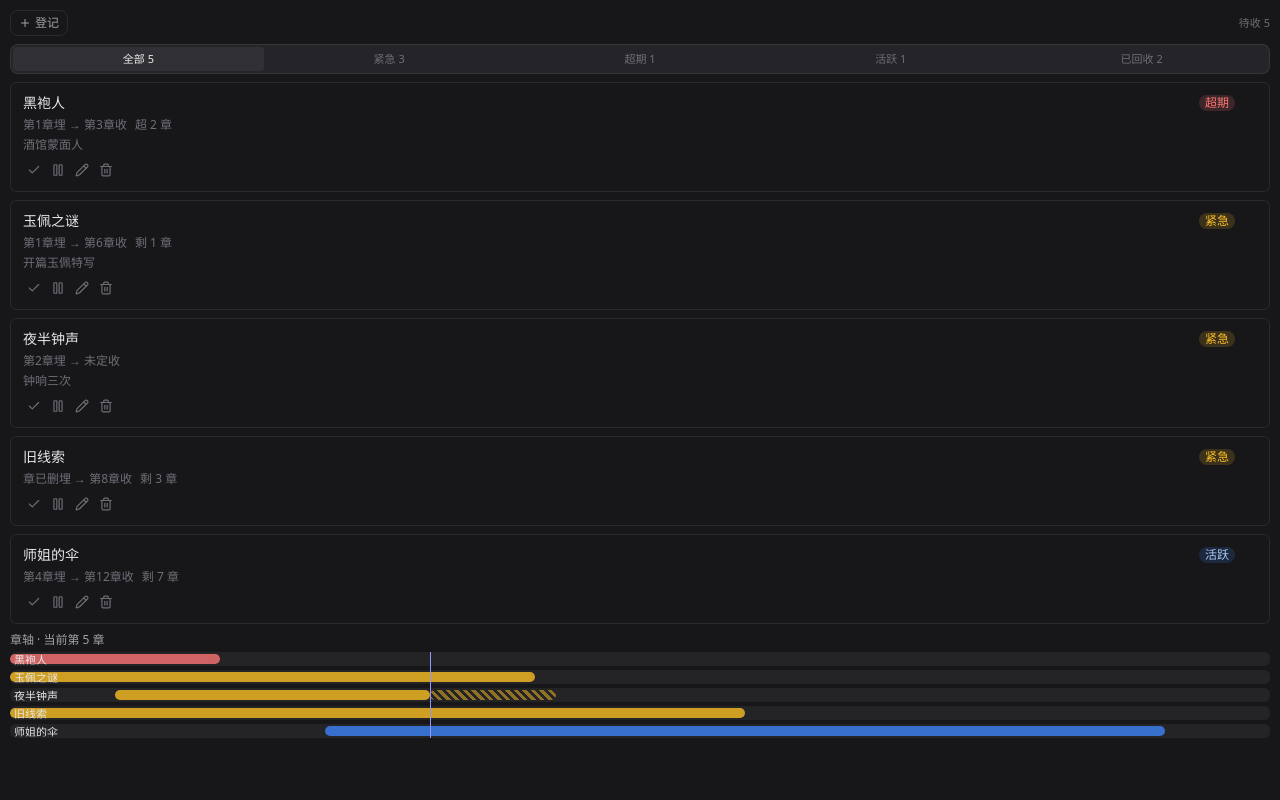
Test: ForeshadowPanel › 筛选：超期只留黑袍人；已回收态显示 resolved/dropped 且甘特收起
Step 1. Click the button "超期 1" → (640, 59), box [515,47,765,71]
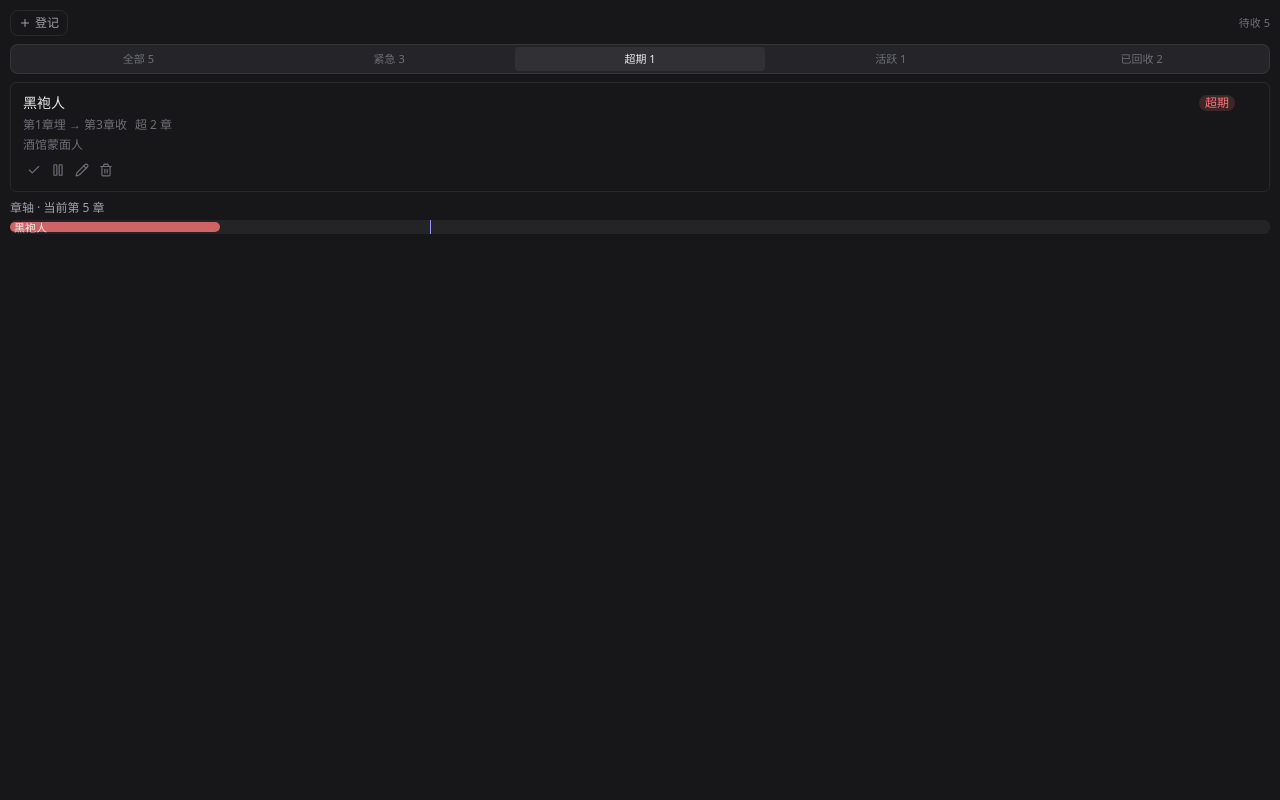
Check: the text "黑袍人" is shown 2 times, box [23,93,65,112]; [14,222,47,232]
Check: the text "玉佩之谜" is gone
Step 2. Click the button "已回收 2" → (1142, 59), box [1016,47,1267,71]
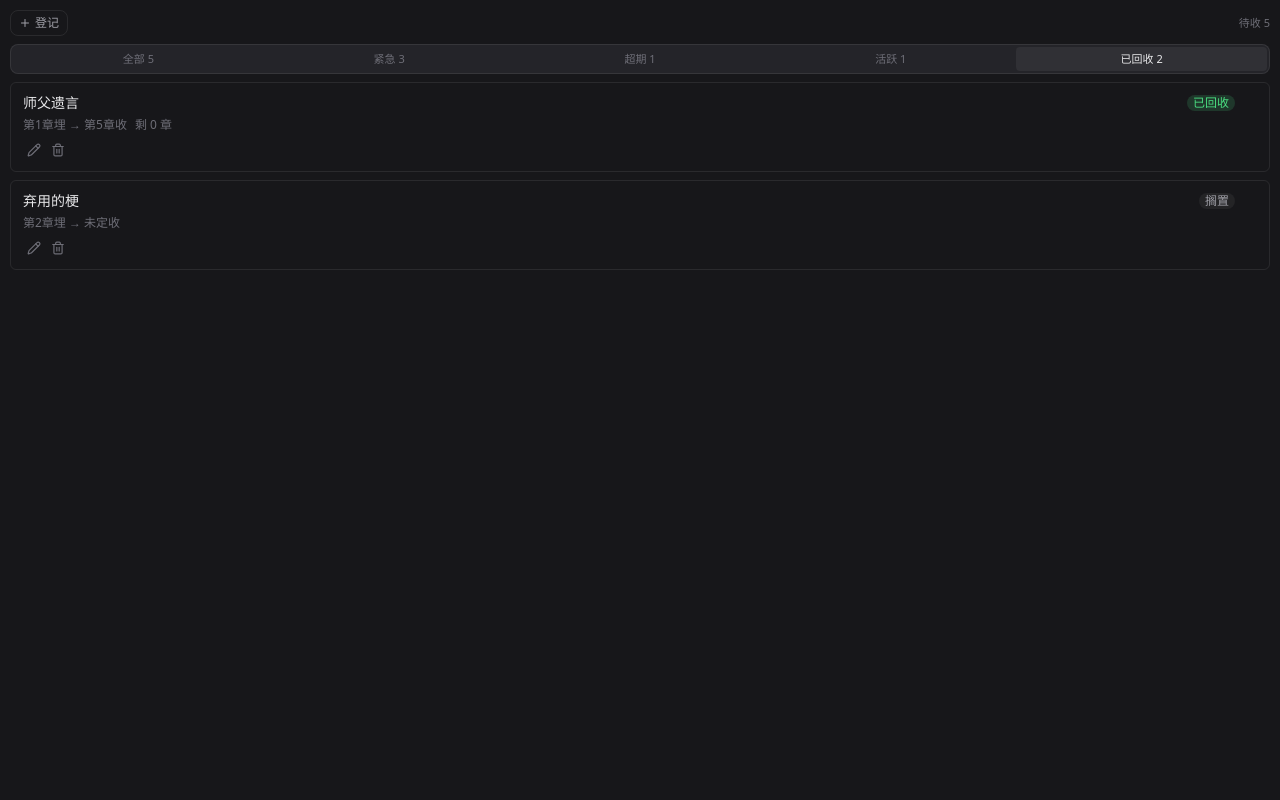
Check: the text "师父遗言" is shown, box [23,93,79,112]
Check: the text "弃用的梗" is shown, box [23,191,79,210]
Check: the text "黑袍人" is gone
